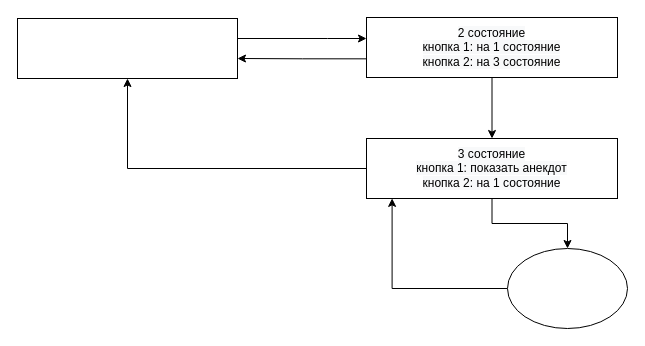
Some shapes in this 645 by 346 pixel diagram are drawn without their labels. The shapes that lost their labels are listed below. From the top down, each one's centre as x and y in pixels, then its label:
point 127,48: 1 состояние кнопка 1: на 2 состояние
point 567,288: показать анекдот
